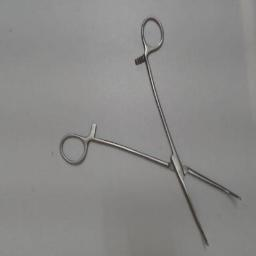Lahey Forceps: (56, 11, 248, 251)
